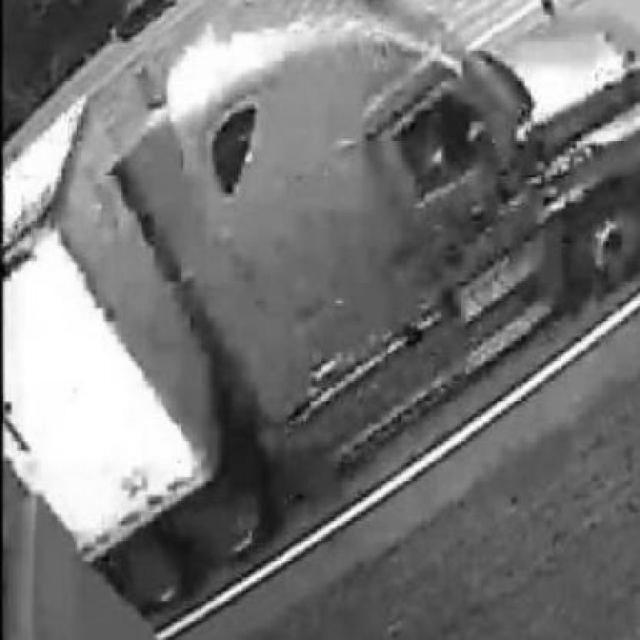Box Truck: (3, 0, 640, 605)
